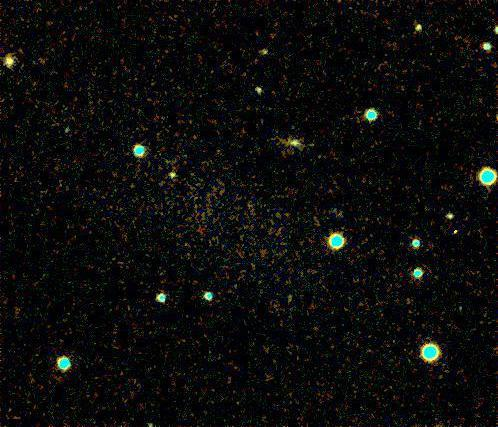star: (438, 219, 468, 249)
